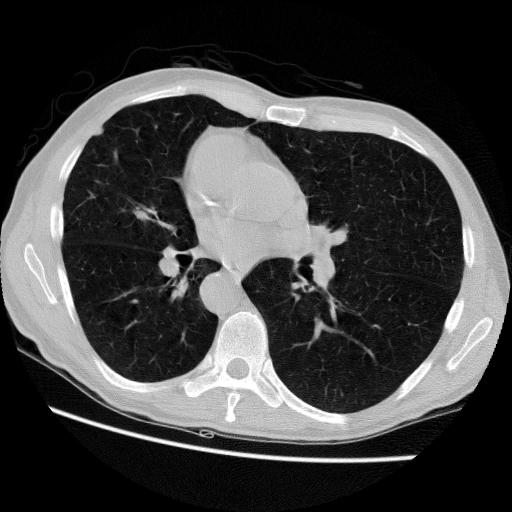nodule: (94, 124, 110, 140)
